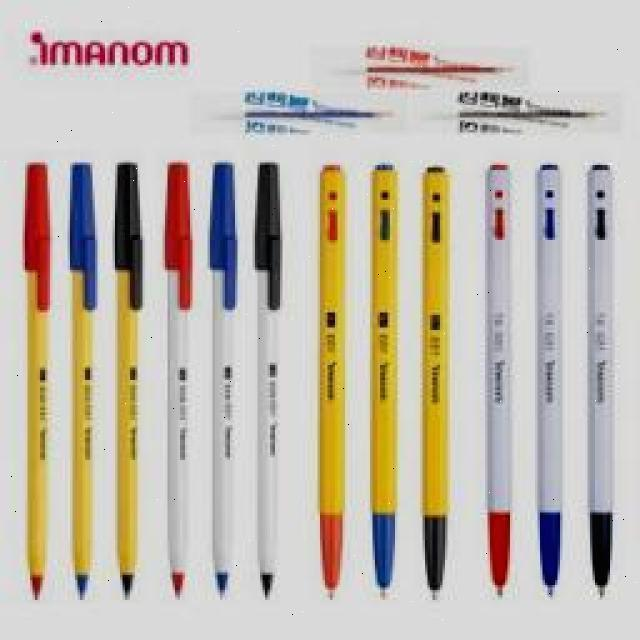pen: (585, 160, 615, 598)
